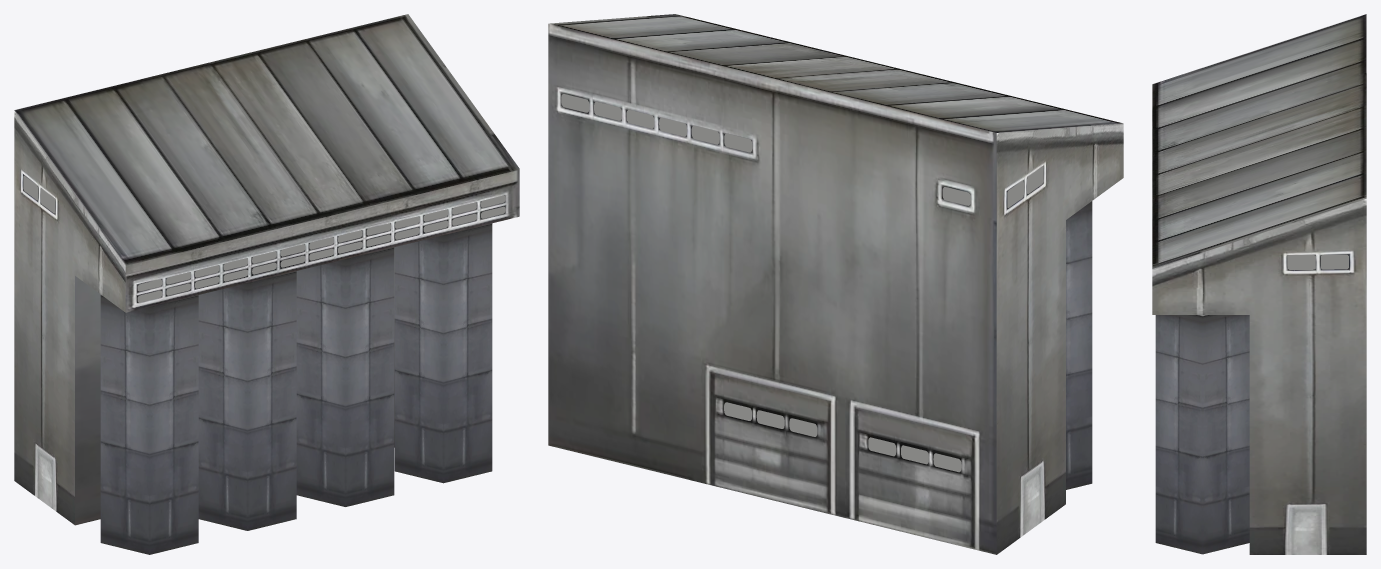
Rendered from grainstorage_hdtex.glb.
The picture shows the model from 3 angles, left to right: view 1: azimuth 30°, elevation 25°; view 2: azimuth 150°, elevation 25°; view 3: azimuth 270°, elevation 25°; orthographic projection. The views are drawn at different scales.
Visible parts, largest first — view 1: GrainStorage, LitWin_GrainStorage; view 2: GrainStorage, LitWin_GrainStorage; view 3: GrainStorage, LitWin_GrainStorage.
Boxes of the visible parts, x1,y1,x2,y2 form: GrainStorage: (14,14,519,554); LitWin_GrainStorage: (23,176,505,302); GrainStorage: (548,14,1123,554); LitWin_GrainStorage: (561,94,1043,472); GrainStorage: (1152,14,1366,554); LitWin_GrainStorage: (1287,254,1348,269).
Size of the model in its own units: 16.86 by 15.16 by 8.26.
Materials: 1 (1 with a texture image).
